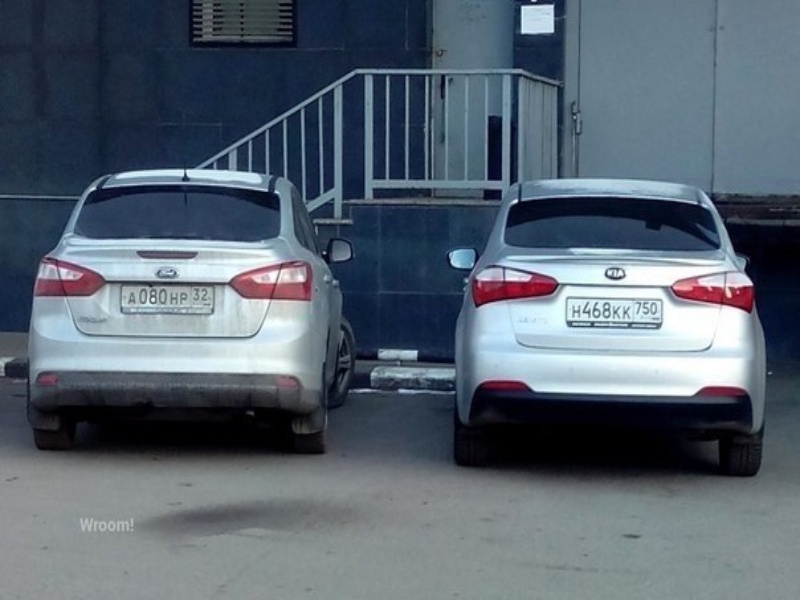car: (447, 178, 767, 477), (27, 166, 357, 452)
plate: (566, 296, 663, 330), (120, 284, 215, 315)
